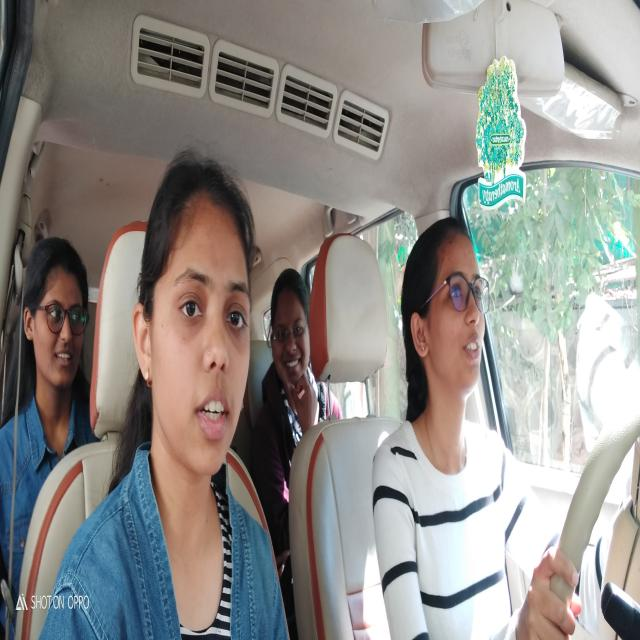person: (132, 148, 254, 486), (395, 215, 492, 388), (22, 231, 94, 396), (272, 272, 312, 396)
